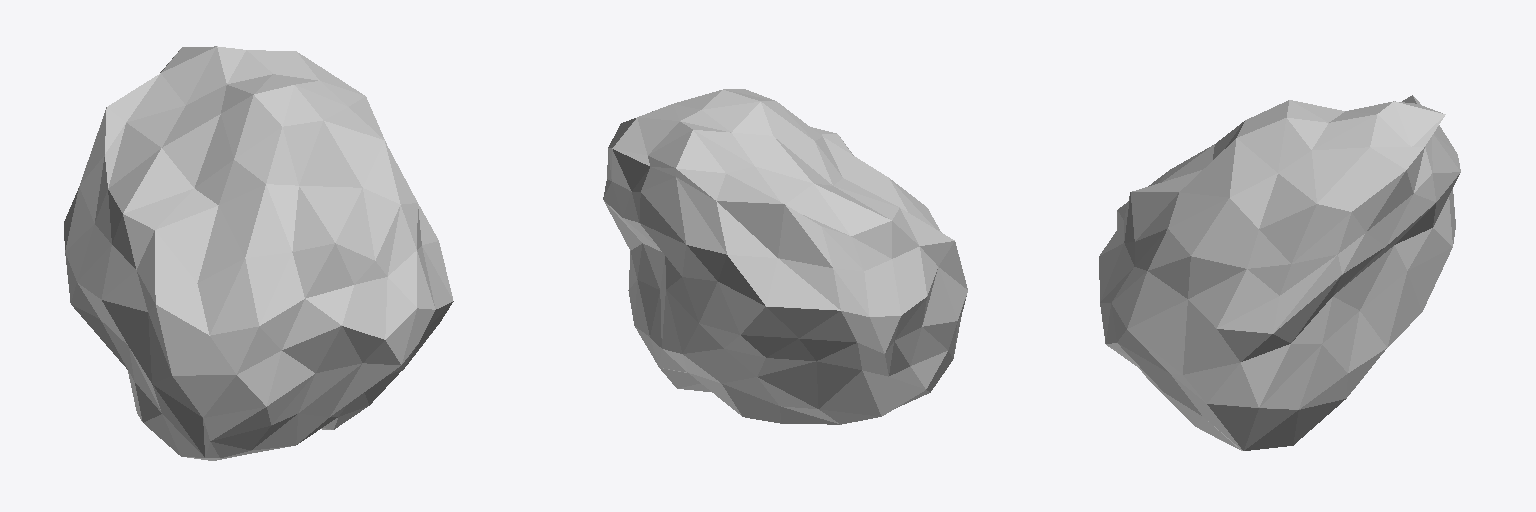
Rendered from Genastre3.obj.
3 views of the same model, side by side, from view 1: azimuth 30°, elevation 25°; view 2: azimuth 150°, elevation 25°; view 3: azimuth 270°, elevation 25° (orthographic).
Parts seen in each view (by area): view 1: astre3; view 2: astre3; view 3: astre3.
Boxes of the visible parts, box(x1,y1,x2,y2) form: astre3: box(64, 46, 453, 460); astre3: box(603, 89, 967, 424); astre3: box(1099, 95, 1460, 450).
Size of the model in its own units: 112 by 111 by 112.